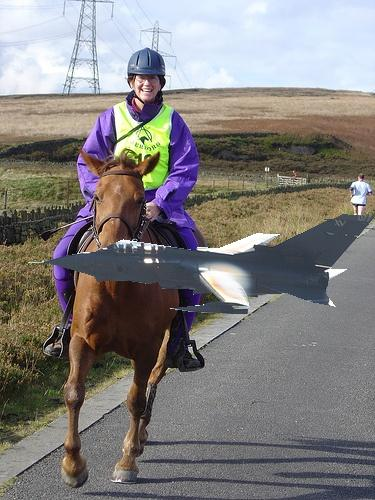tampered: (29, 215, 374, 314)
